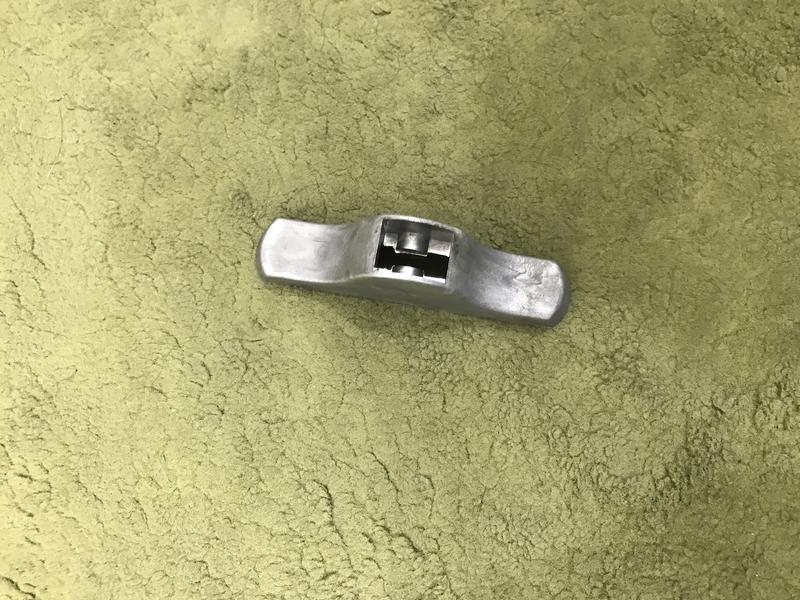zapchast: (242, 197, 586, 351)
